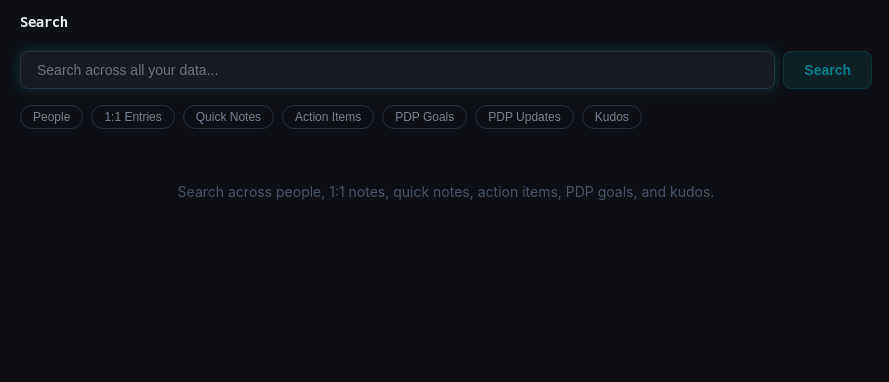
Scenario: SearchPage › should display plural results text
This screenshot has width=889, height=382.
Type "test" into the field with test id "search-input" at x=398, y=70, box [20, 51, 775, 89]
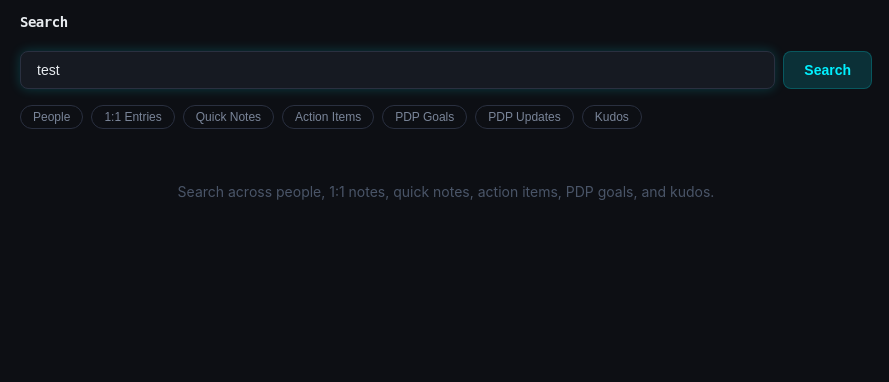
Submit the form with test id "search-input", box [20, 51, 872, 89]
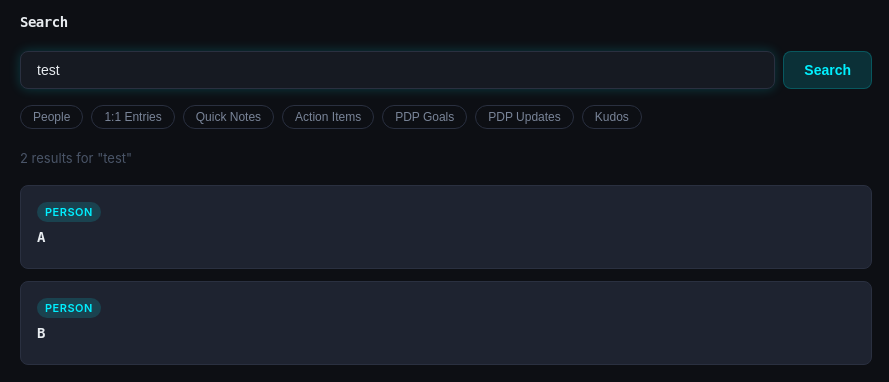
expect the text with test id "search-results-summary" reads "2 results for \"test\"": met, box [20, 150, 132, 166]
